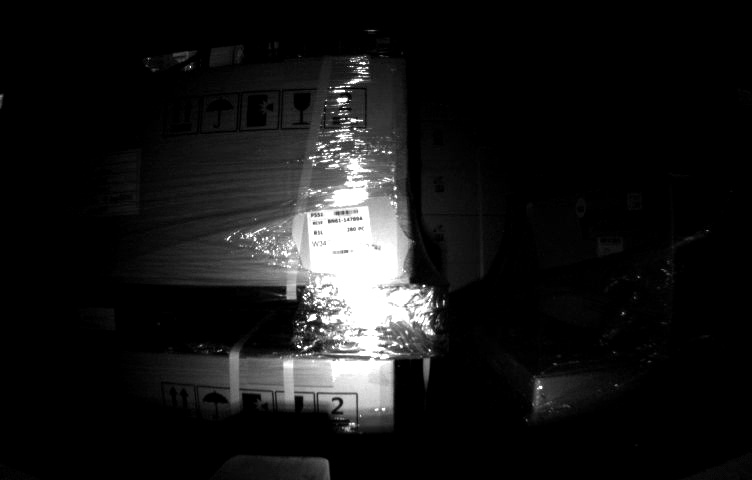True Barcode: (307, 206, 371, 270)
